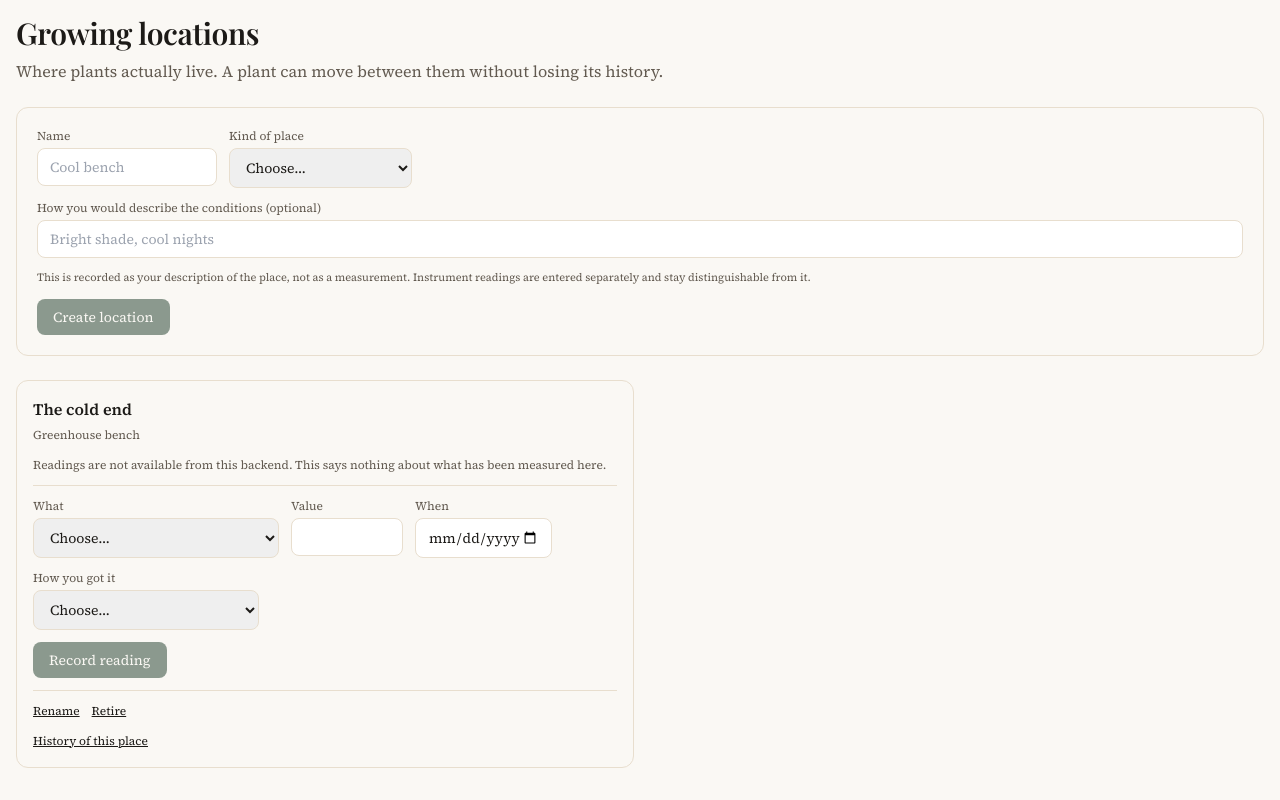
Test case: MyConservatory location history › reports a malformed history rather than claiming nothing happened
(page scrolled)
What coordinates should you click on to do the following:
click the button "History of this place"
I would click on:
 (90, 740)
Its box is [33,732,148,748].
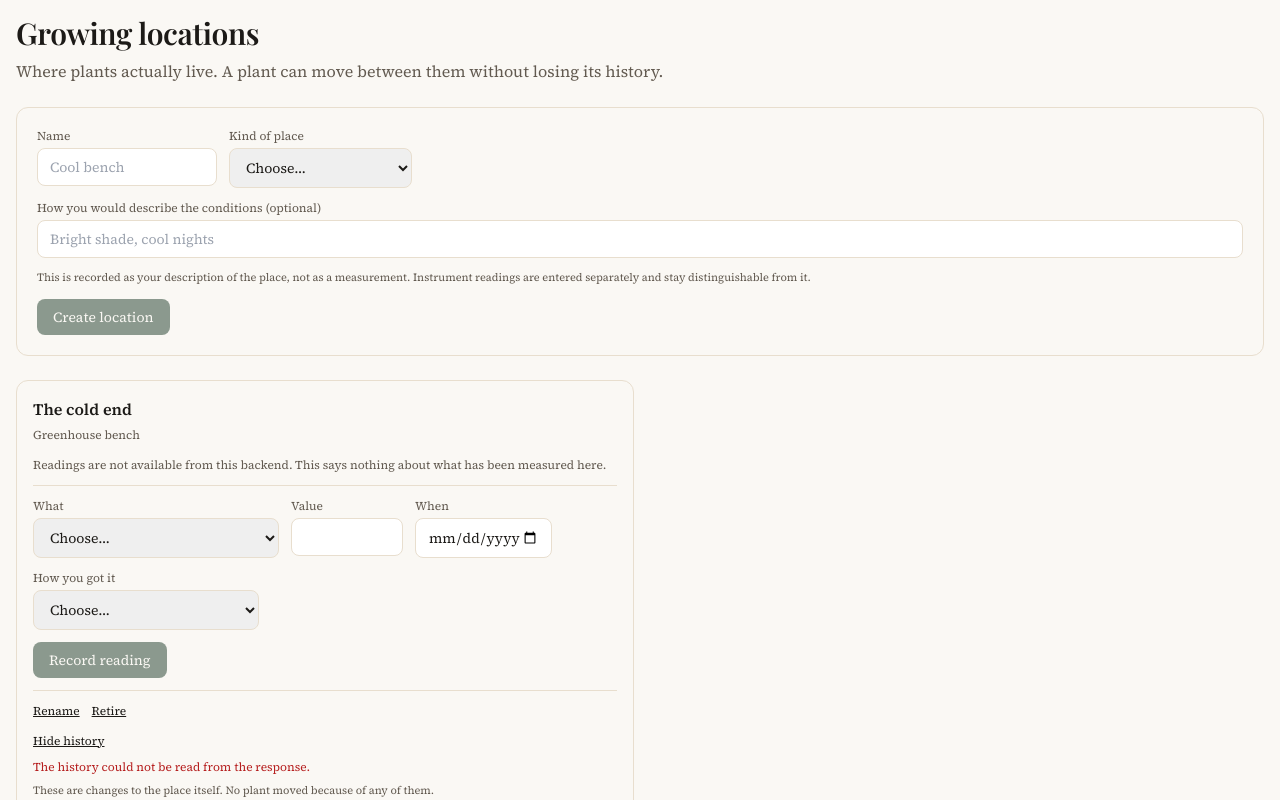
Now the message "The history could not be read from the response." is shown, box [33,758,310,774]
